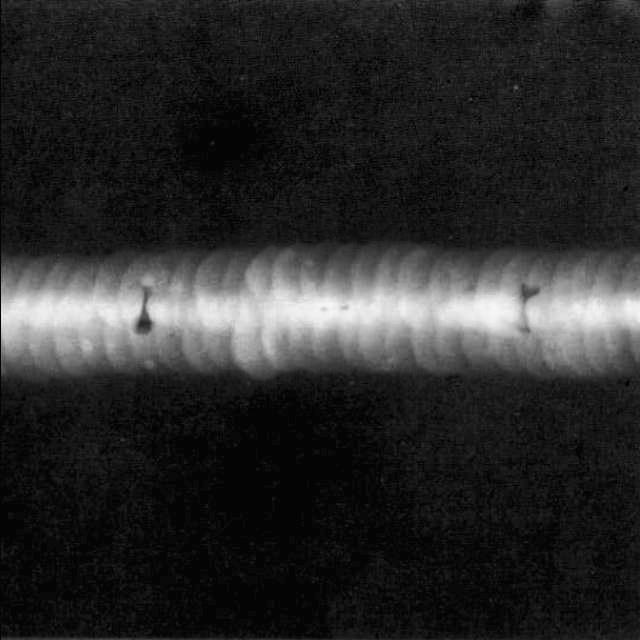Slag: (112, 281, 170, 346), (508, 272, 558, 346)
